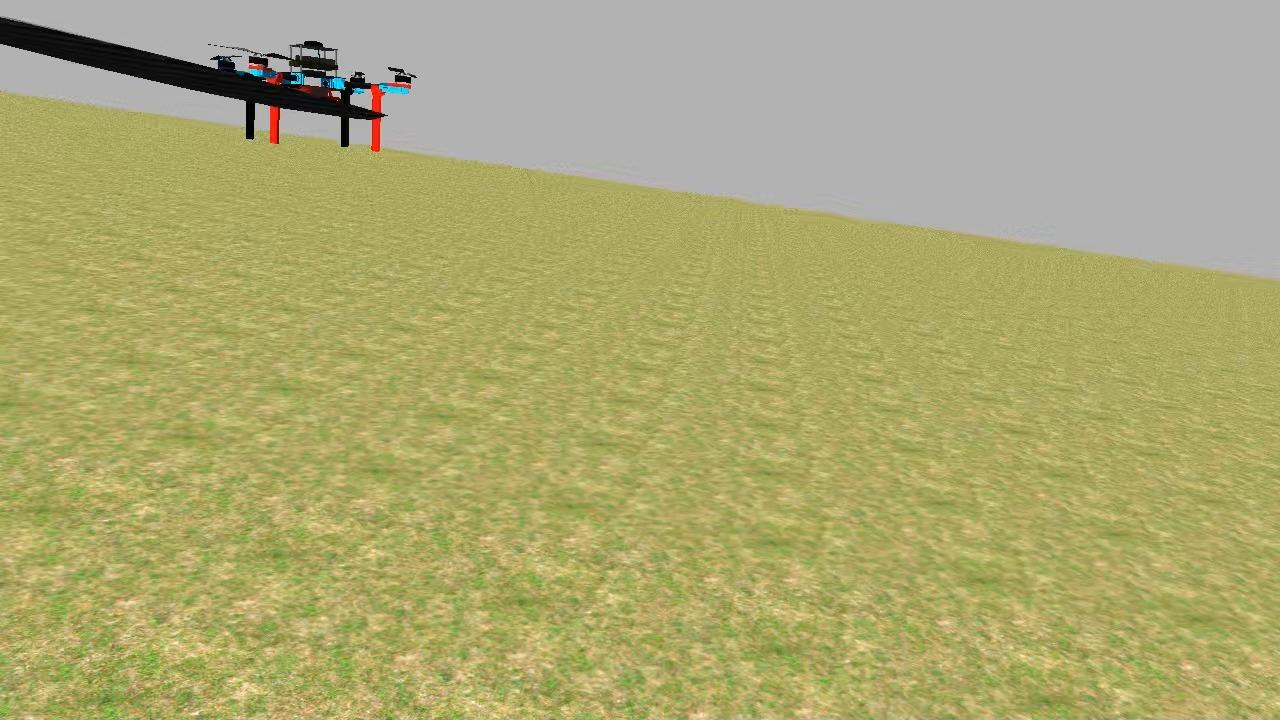UAV: (200, 30, 417, 160)
